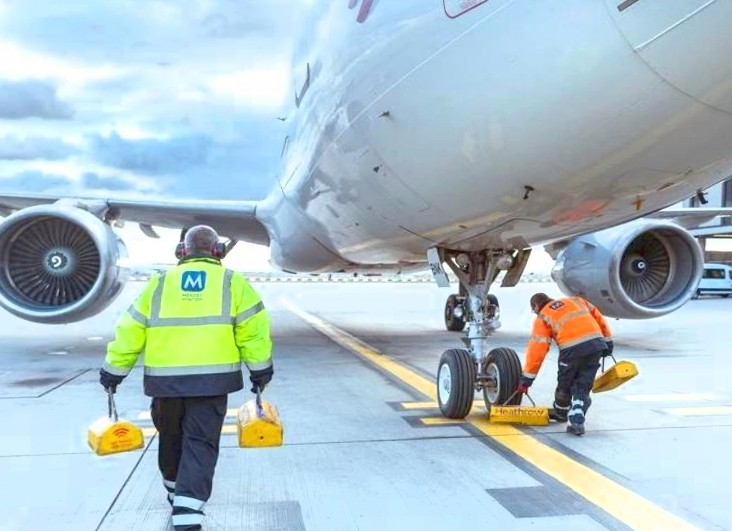chock: (81, 410, 149, 458), (236, 393, 288, 453), (587, 359, 640, 396), (489, 404, 551, 429)
wheel: (435, 347, 477, 420), (479, 346, 523, 413), (443, 293, 467, 331), (484, 293, 499, 315)
